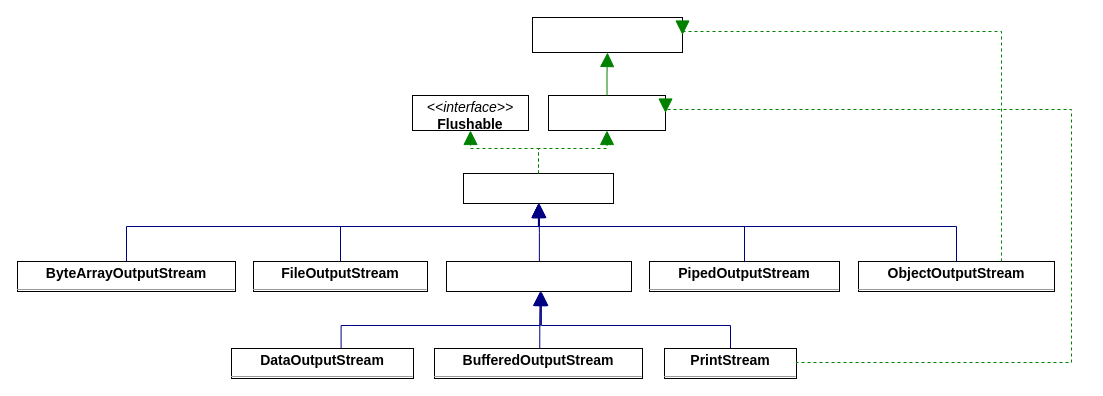
The diagram is 1103 pixels wide and 396 high, and some of its shapes have lost their labels. Here are the shapes that lost their labels. From the top down, the box of each, then its label:
(532, 16, 682, 52): <<interface>> AutoCloseable
(548, 94, 666, 130): <<interface>> Closeable
(462, 172, 614, 204): OutputStream
(446, 260, 632, 292): FilterOutputStream
